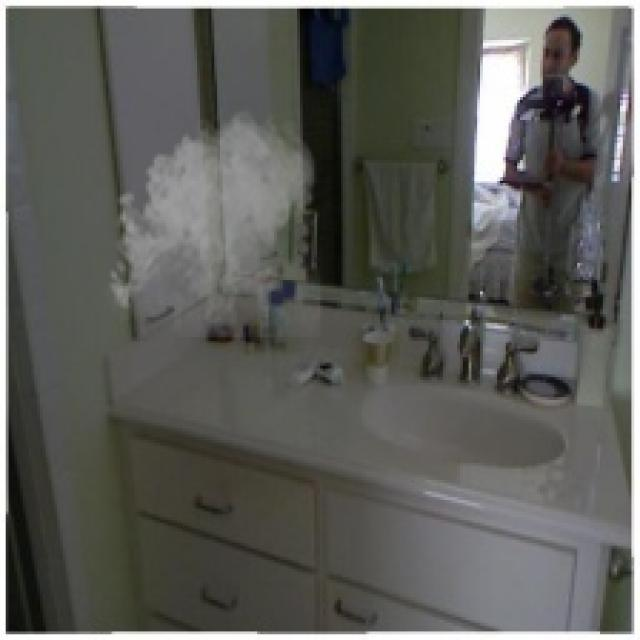smoke: (103, 103, 323, 337)
